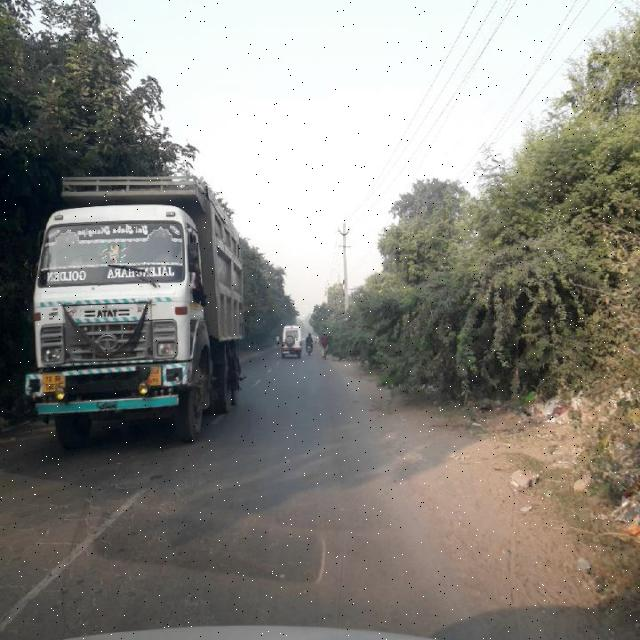D20: (28, 464, 168, 572)
